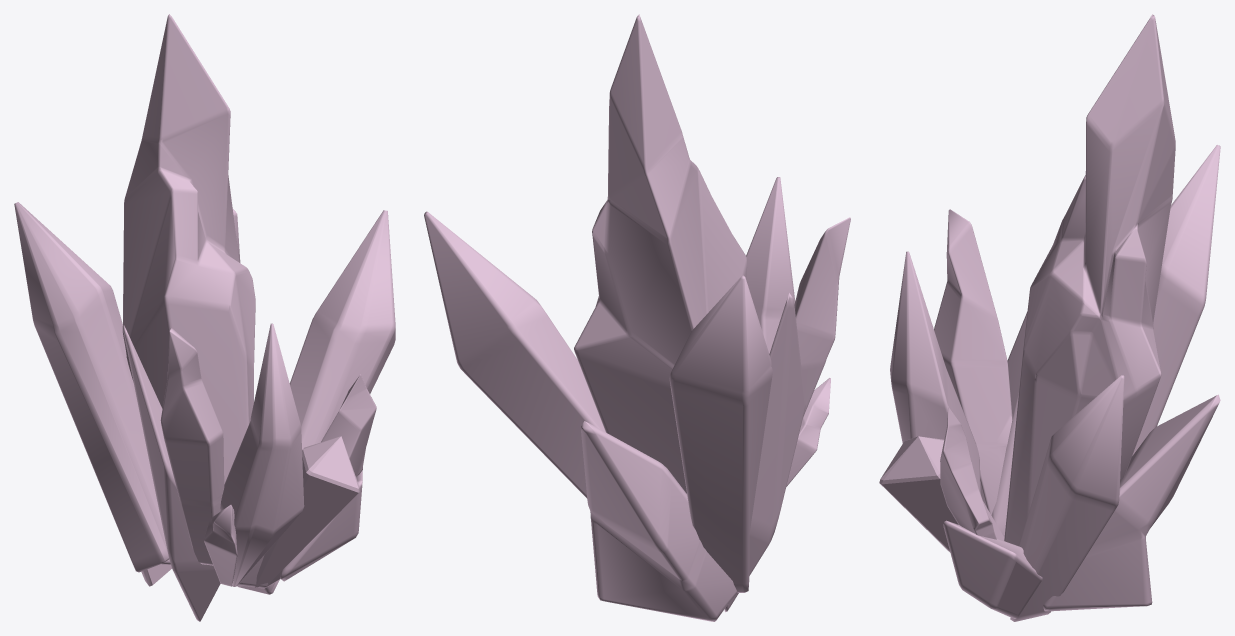
Rendered from shuijing_5.fbx.
3 renders of one model, left to right at view 1: azimuth 30°, elevation 25°; view 2: azimuth 150°, elevation 25°; view 3: azimuth 270°, elevation 25°, orthographic. The views are drawn at different scales.
Visible parts, largest first — view 1: shuijing:Object138; view 2: shuijing:Object138; view 3: shuijing:Object138.
Boxes of the visible parts, x1=… form: shuijing:Object138: x1=14, y1=14, x2=395, y2=621; shuijing:Object138: x1=424, y1=14, x2=850, y2=621; shuijing:Object138: x1=879, y1=14, x2=1220, y2=621.
Bounding box in the file's own units: 215 × 353 × 179.
